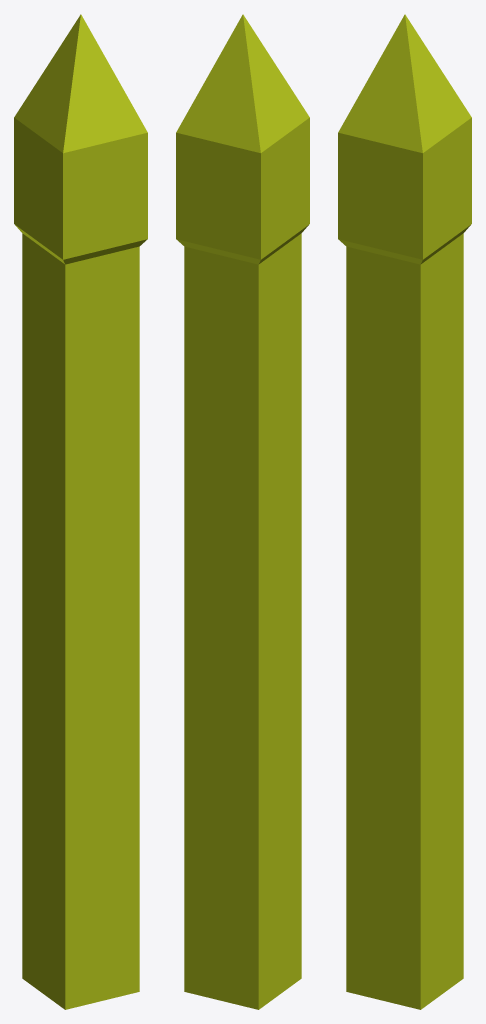
Rendered from Wheat.obj.
The picture shows the model from 3 angles, left to right: view 1: azimuth 30°, elevation 25°; view 2: azimuth 150°, elevation 25°; view 3: azimuth 330°, elevation 25°; orthographic projection.
Visible parts, largest first — view 1: Wheat_Cube.001; view 2: Wheat_Cube.001; view 3: Wheat_Cube.001.
Boxes of the visible parts, box(x1,y1,x2,y2) form: Wheat_Cube.001: box(14, 14, 147, 1009); Wheat_Cube.001: box(176, 14, 309, 1009); Wheat_Cube.001: box(338, 14, 471, 1009).
Size of the model in its own units: 0.0887 by 0.9712 by 0.0887.
